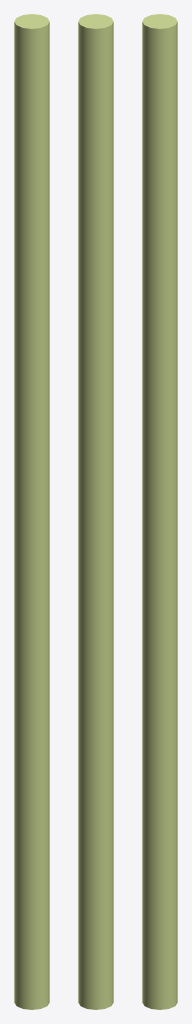
Rendered from tense_cylinder_new.obj.
3 renders of one model, left to right at view 1: azimuth 90°, elevation 25°; view 2: azimuth 150°, elevation 25°; view 3: azimuth 270°, elevation 25°, orthographic.
Visible parts, largest first — view 1: Cylinder001; view 2: Cylinder001; view 3: Cylinder001.
Part boxes in pixels (x1,y1,x2,y2): Cylinder001: (14, 14, 49, 1009); Cylinder001: (78, 14, 113, 1009); Cylinder001: (142, 14, 177, 1009).
Bounding box in the file's own units: 0.328 × 10 × 0.328.
